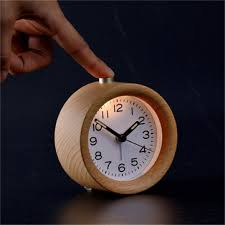alarm_clock: (51, 71, 178, 193)
